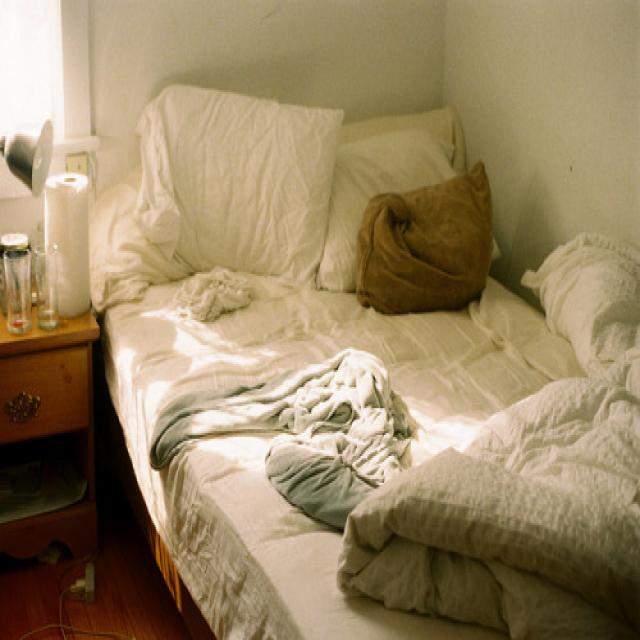bed: (86, 77, 640, 640)
